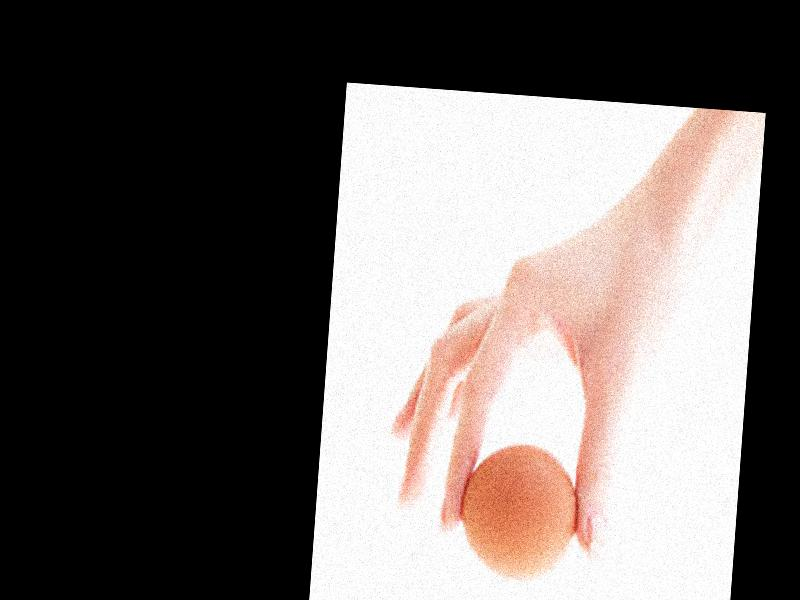Eggs: (455, 443, 583, 582)
